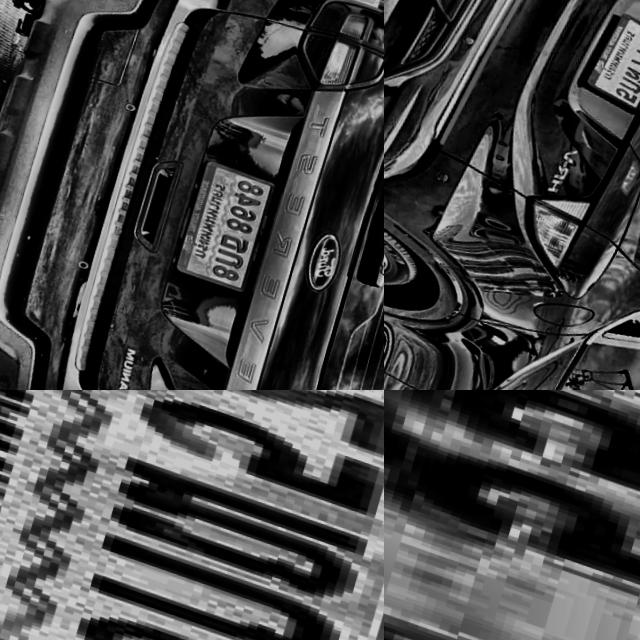license-plate: (0, 390, 384, 640), (384, 390, 640, 640), (175, 147, 285, 291), (573, 0, 640, 113)
